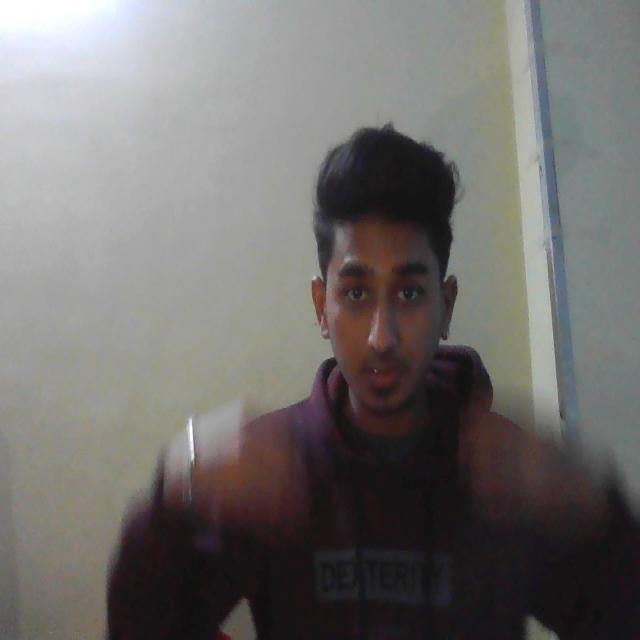real: (307, 134, 470, 442)
